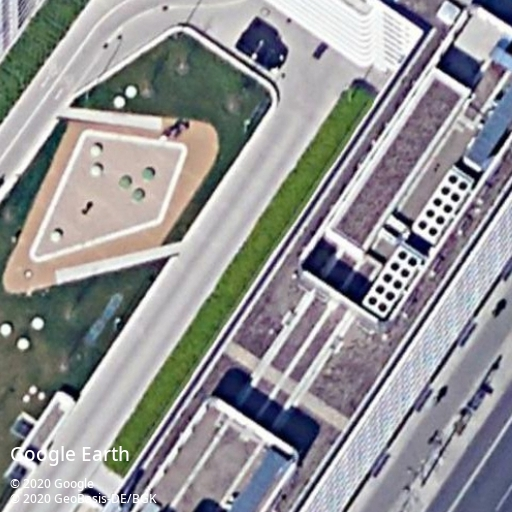Chiller: (411, 164, 475, 246), (362, 244, 422, 319)
